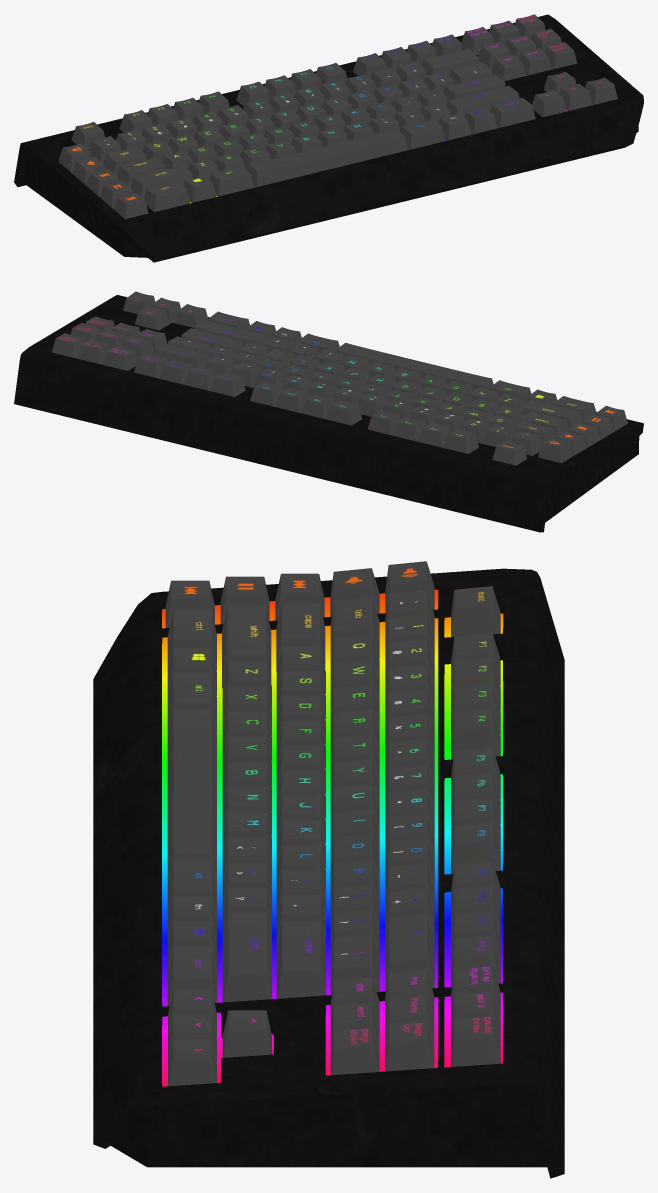
File: kb-razer-huntsman-v3-pro-tkl.glb
The picture shows the model from 3 angles, top to bottom: view 1: azimuth 30°, elevation 25°; view 2: azimuth 150°, elevation 25°; view 3: azimuth 270°, elevation 25°; orthographic projection. The views are drawn at different scales.
Parts seen in each view (by area): view 1: body; view 2: body; view 3: body.
Boxes of the visible parts, left/top/right/bottom form: body: left=14, top=14, right=643, bottom=262; body: left=14, top=291, right=643, bottom=532; body: left=93, top=561, right=564, bottom=1178.
Size of the model in its own units: 0.361 by 0.04 by 0.14.
1 material, 1 textured.
